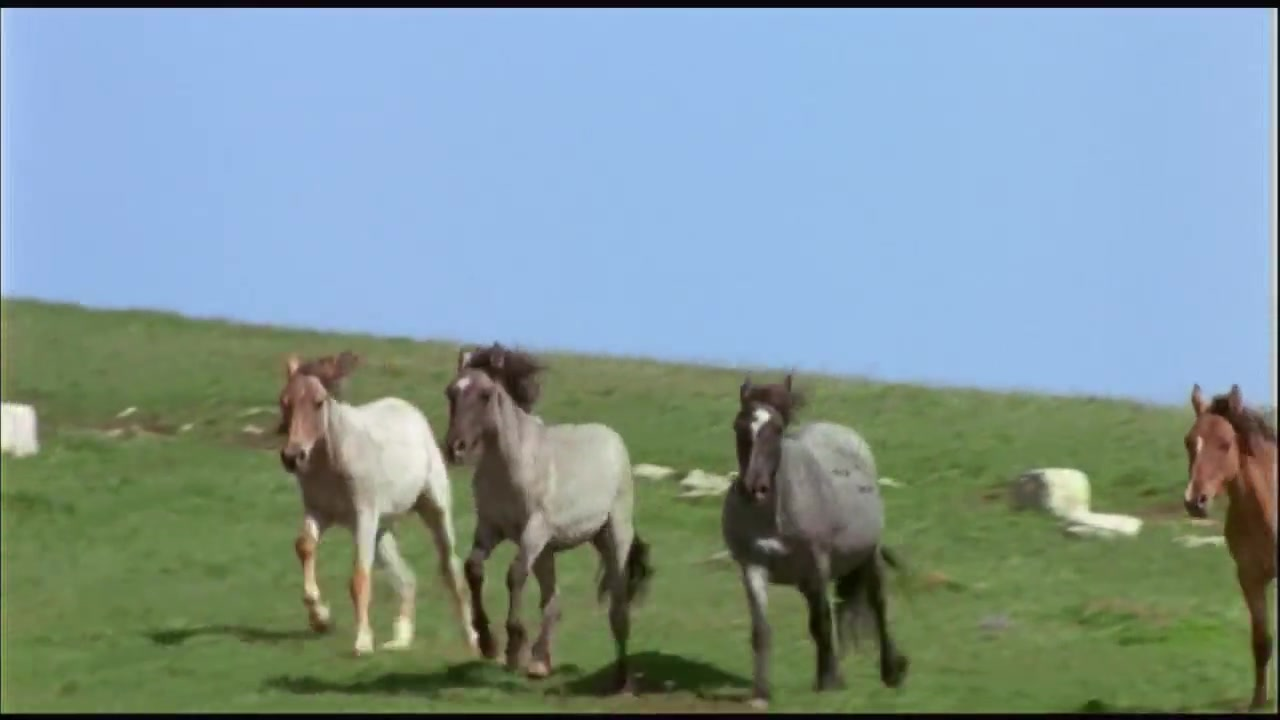horse: (721, 370, 910, 707)
